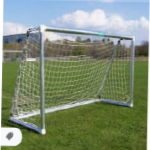goals: (7, 24, 137, 136)
